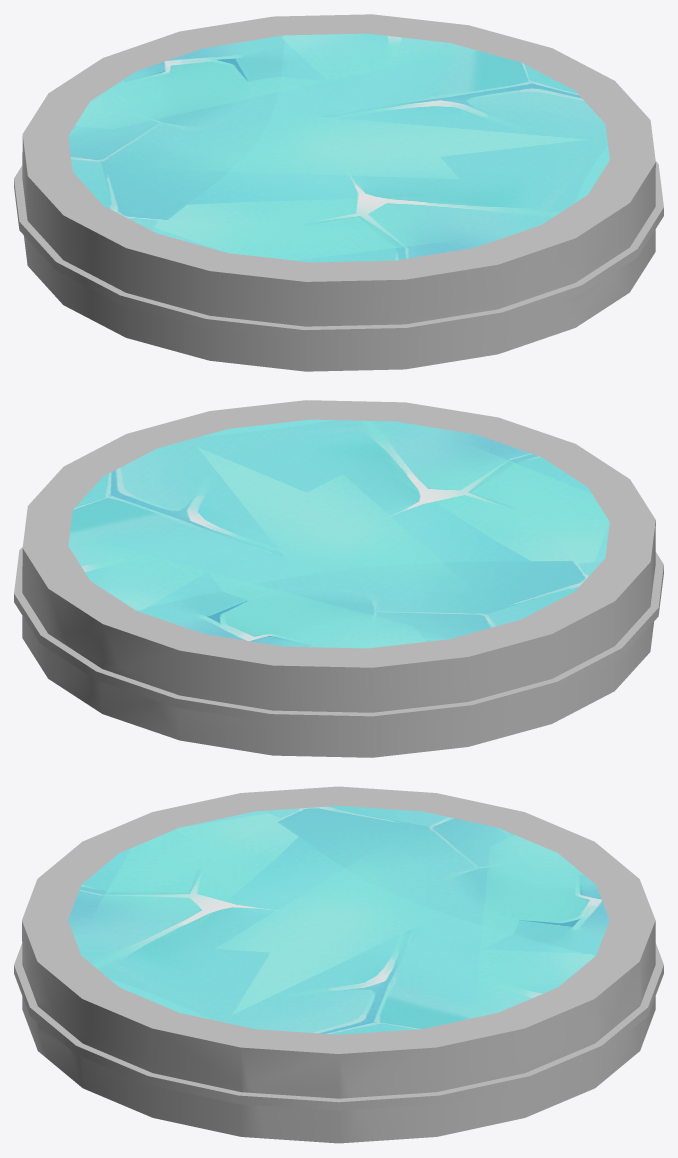
File: RailLineCircleWithIce.fbx
3 views of the same model, one above another, from view 1: azimuth 30°, elevation 25°; view 2: azimuth 150°, elevation 25°; view 3: azimuth 270°, elevation 25° (orthographic).
Parts seen in each view (by area): view 1: RailLineCircleIce, RailLineCircle; view 2: RailLineCircleIce, RailLineCircle; view 3: RailLineCircleIce, RailLineCircle.
Part boxes in pixels (<box>): RailLineCircleIce: <box>68,33,609,262</box>; RailLineCircle: <box>14,14,663,371</box>; RailLineCircleIce: <box>68,419,609,648</box>; RailLineCircle: <box>14,400,663,757</box>; RailLineCircleIce: <box>68,806,609,1034</box>; RailLineCircle: <box>14,786,663,1143</box>.
Size of the model in its own units: 408 by 61.89 by 408.
